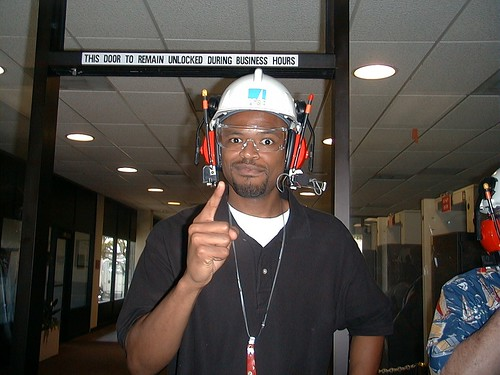person hardhat: (140, 66, 377, 375)
